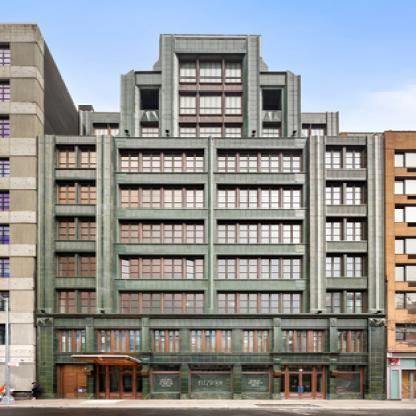Building Outline: (36, 34, 386, 400)
Door: (63, 373, 88, 399), (288, 374, 313, 399), (109, 374, 134, 399)
Facade: (37, 34, 387, 399)
Floor Slab: (38, 313, 387, 321), (39, 353, 386, 361), (39, 245, 385, 253), (39, 208, 385, 216), (39, 173, 385, 181), (39, 280, 385, 288), (39, 138, 385, 145), (119, 115, 302, 122), (121, 83, 301, 90)
Glass Wall: (217, 152, 302, 173), (119, 152, 204, 173), (217, 186, 302, 207), (119, 186, 204, 207), (217, 292, 302, 313), (119, 292, 204, 313), (217, 223, 302, 244), (119, 223, 204, 244), (217, 258, 302, 279), (119, 258, 204, 279), (179, 123, 242, 148), (179, 91, 244, 115), (180, 58, 241, 83), (56, 290, 97, 313), (324, 290, 365, 313), (56, 181, 97, 204), (324, 146, 365, 169), (324, 182, 365, 205), (324, 218, 365, 241), (56, 254, 97, 276), (56, 218, 97, 240), (56, 145, 97, 167), (324, 254, 365, 276), (191, 374, 230, 393), (241, 374, 269, 393), (152, 374, 179, 392), (336, 374, 361, 393), (94, 123, 122, 139), (298, 124, 326, 139)
Pillar: (329, 317, 337, 352), (85, 316, 93, 351), (141, 316, 149, 351), (273, 317, 281, 352), (232, 329, 242, 353), (179, 329, 189, 353)
Window: (262, 122, 281, 148), (140, 122, 159, 148), (262, 88, 281, 111), (140, 88, 159, 111), (191, 364, 230, 371), (153, 364, 181, 371), (315, 365, 322, 392), (278, 365, 285, 392), (99, 365, 106, 392), (242, 364, 269, 371), (109, 365, 133, 372), (288, 365, 312, 372), (337, 364, 361, 371), (137, 365, 143, 392)
